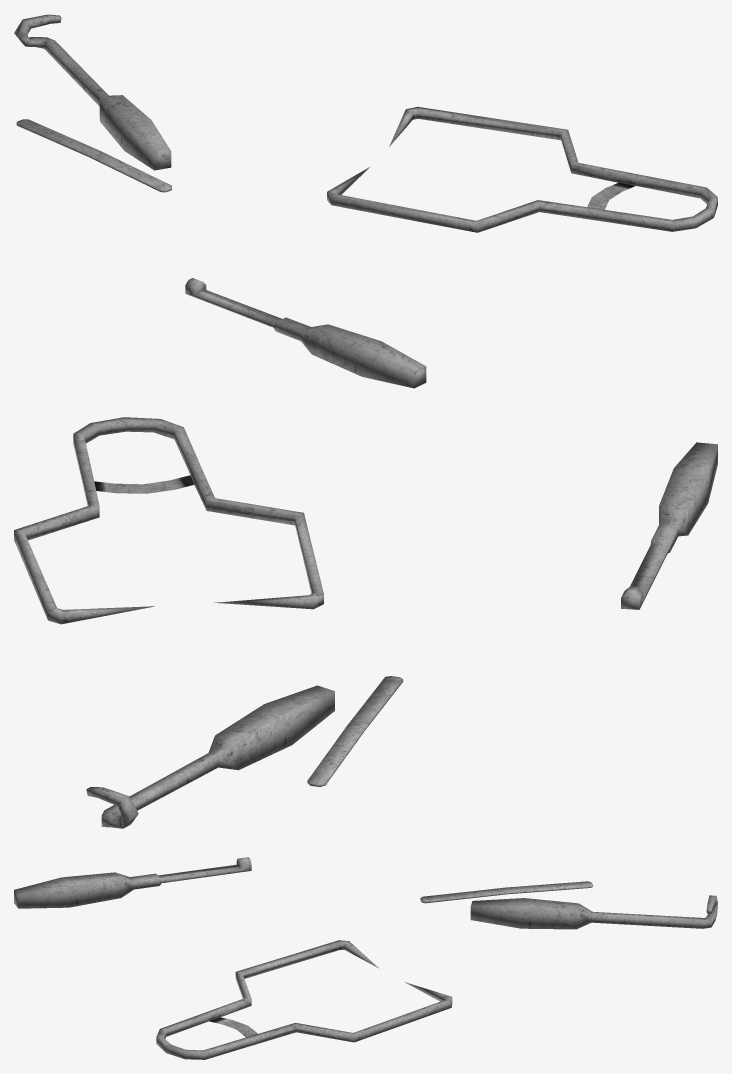
Rendered from tools.fbx.
The picture shows the model from 3 angles, top to bottom: view 1: azimuth 30°, elevation 25°; view 2: azimuth 150°, elevation 25°; view 3: azimuth 270°, elevation 25°; orthographic projection. The views are drawn at different scales.
Visible parts, largest first — view 1: Tools; view 2: Tools; view 3: Tools.
Boxes of the visible parts, x1,y1,x2,y2 form: Tools: (14, 14, 717, 388); Tools: (14, 417, 717, 828); Tools: (14, 857, 717, 1059).
Size of the model in its own units: 172 by 13.07 by 266.
1 material, 1 textured.
